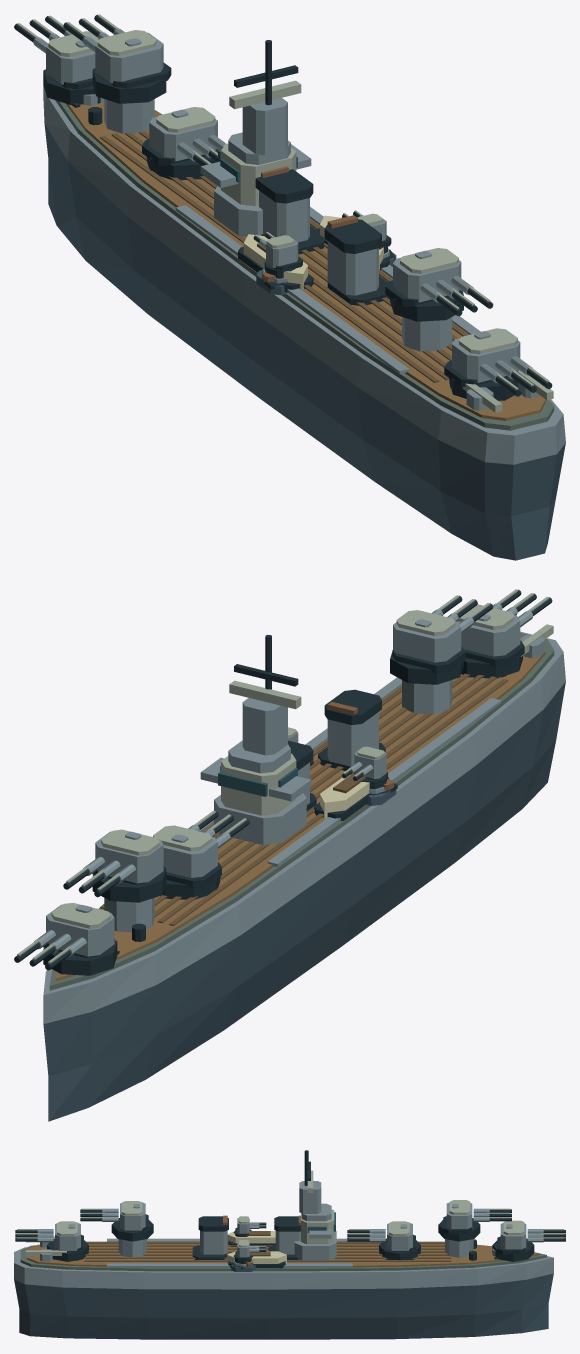
The model's file is historic-st-louis.glb.
The picture shows the model from 3 angles, top to bottom: view 1: azimuth 30°, elevation 25°; view 2: azimuth 150°, elevation 25°; view 3: azimuth 270°, elevation 25°; orthographic projection. The views are drawn at different scales.
Visible parts, largest first — view 1: historic-st-louis-historic-st-louis-geometry, historic-st-louis-part_bridge.095-geometry, historic-st-louis-turret_main_1.062-geometry, historic-st-louis-turret_main_3.034-geometry, historic-st-louis-turret_main_4.010-geometry, historic-st-louis-turret_main_2.055-geometry, historic-st-louis-historic_funnel_1.047-geometry, historic-st-louis-turret_main_0.066-geometry, historic-st-louis-historic_funnel_0.093-geometry, historic-st-louis-turret_aa_aa-port.097-geometry; view 2: historic-st-louis-historic-st-louis-geometry, historic-st-louis-part_bridge.095-geometry, historic-st-louis-turret_main_3.034-geometry, historic-st-louis-turret_main_0.066-geometry, historic-st-louis-turret_main_1.062-geometry, historic-st-louis-turret_main_2.055-geometry, historic-st-louis-turret_main_4.010-geometry, historic-st-louis-historic_funnel_1.047-geometry, historic-st-louis-turret_aa_aa-port.097-geometry, historic-st-louis-historic_funnel_0.093-geometry; view 3: historic-st-louis-historic-st-louis-geometry, historic-st-louis-part_bridge.095-geometry, historic-st-louis-turret_main_1.062-geometry, historic-st-louis-turret_main_3.034-geometry, historic-st-louis-turret_main_0.066-geometry, historic-st-louis-turret_main_2.055-geometry, historic-st-louis-turret_main_4.010-geometry, historic-st-louis-historic_funnel_1.047-geometry, historic-st-louis-historic_funnel_0.093-geometry, historic-st-louis-turret_aa_aa-starboard.093-geometry, historic-st-louis-turret_aa_aa-port.097-geometry.
Boxes of the visible parts, x1,y1,x2,y2 form: historic-st-louis-historic-st-louis-geometry: (43,86,565,560); historic-st-louis-part_bridge.095-geometry: (200,40,311,236); historic-st-louis-turret_main_1.062-geometry: (63,14,171,103); historic-st-louis-turret_main_3.034-geometry: (385,248,493,321); historic-st-louis-turret_main_4.010-geometry: (444,328,552,400); historic-st-louis-turret_main_2.055-geometry: (142,107,226,180); historic-st-louis-historic_funnel_1.047-geometry: (324,215,389,305); historic-st-louis-turret_main_0.066-geometry: (14,15,100,104); historic-st-louis-historic_funnel_0.093-geometry: (255,166,324,254); historic-st-louis-turret_aa_aa-port.097-geometry: (253,232,302,278); historic-st-louis-historic-st-louis-geometry: (43,624,565,1121); historic-st-louis-part_bridge.095-geometry: (200,635,311,844); historic-st-louis-turret_main_3.034-geometry: (390,595,493,684); historic-st-louis-turret_main_0.066-geometry: (14,903,117,975); historic-st-louis-turret_main_1.062-geometry: (63,829,166,902); historic-st-louis-turret_main_2.055-geometry: (153,810,249,899); historic-st-louis-turret_main_4.010-geometry: (457,589,552,678); historic-st-louis-historic_funnel_1.047-geometry: (318,689,385,770); historic-st-louis-turret_aa_aa-port.097-geometry: (342,746,387,789); historic-st-louis-historic_funnel_0.093-geometry: (288,740,316,811); historic-st-louis-historic-st-louis-geometry: (14,1231,553,1339); historic-st-louis-part_bridge.095-geometry: (294,1150,336,1260); historic-st-louis-turret_main_1.062-geometry: (438,1200,511,1241); historic-st-louis-turret_main_3.034-geometry: (80,1201,153,1241); historic-st-louis-turret_main_0.066-geometry: (492,1220,565,1261); historic-st-louis-turret_main_2.055-geometry: (347,1221,420,1260); historic-st-louis-turret_main_4.010-geometry: (15,1221,88,1261); historic-st-louis-historic_funnel_1.047-geometry: (192,1215,228,1259); historic-st-louis-historic_funnel_0.093-geometry: (268,1215,300,1259); historic-st-louis-turret_aa_aa-starboard.093-geometry: (233,1240,266,1264); historic-st-louis-turret_aa_aa-port.097-geometry: (233,1216,266,1236).
Bounding box in the file's own units: 0.6478 × 1.57 × 4.41.
